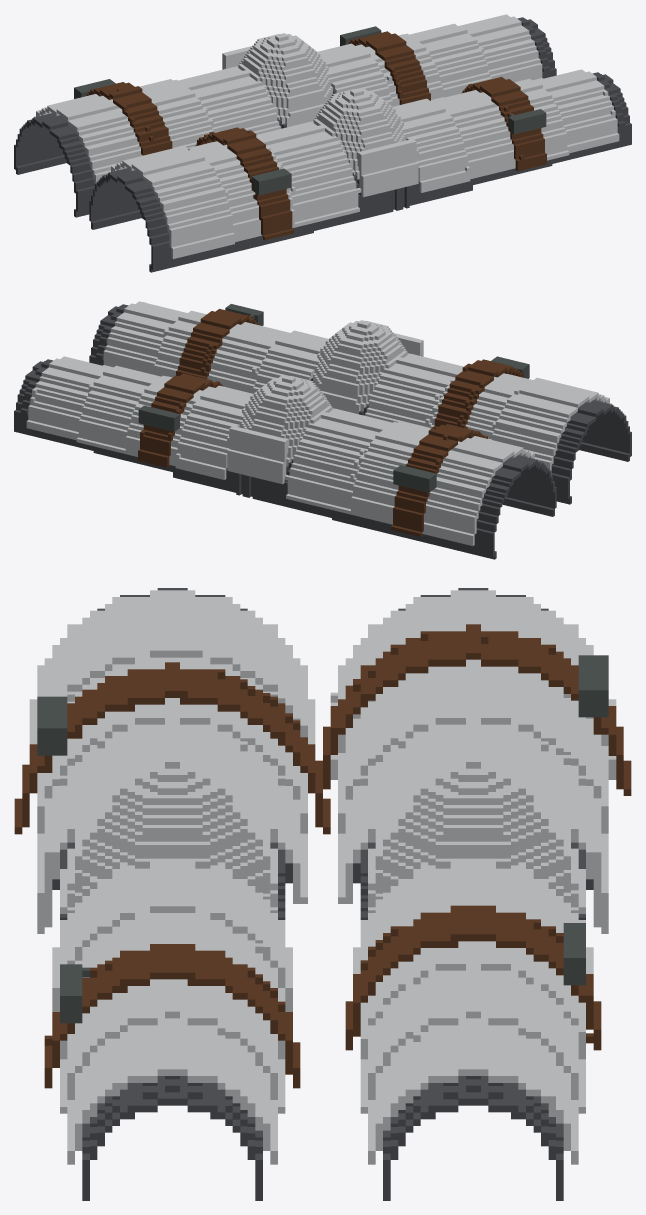
File: leg_guard_steel.glb
3 views of the same model, one above another, from view 1: azimuth 30°, elevation 25°; view 2: azimuth 150°, elevation 25°; view 3: azimuth 270°, elevation 25° (orthographic). The views are drawn at different scales.
Parts seen in each view (by area): view 1: leg_guard_steel:compound; view 2: leg_guard_steel:compound; view 3: leg_guard_steel:compound.
Part boxes in pixels (<box>): leg_guard_steel:compound: <box>14,14,631,272</box>; leg_guard_steel:compound: <box>14,301,631,559</box>; leg_guard_steel:compound: <box>14,588,631,1200</box>.
Bounding box in the file's own units: 0.6 × 0.12 × 0.328.
